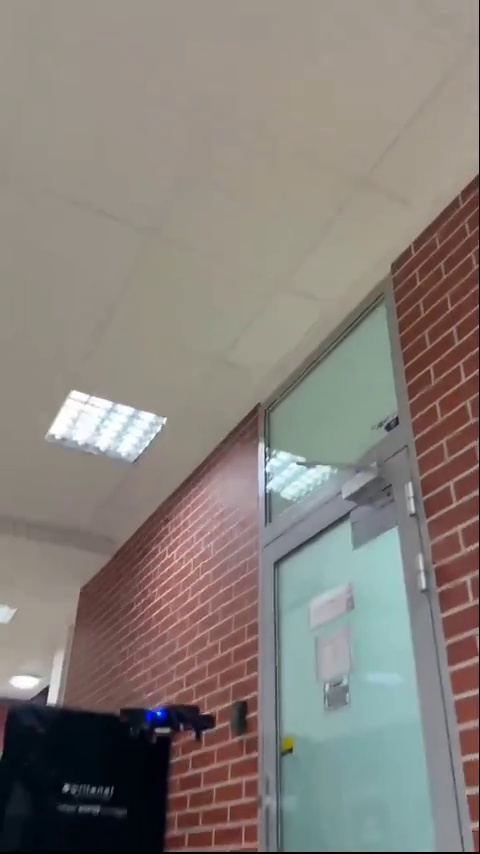drone: (119, 700, 215, 742)
